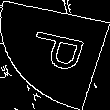P_E: (20, 31, 90, 79)
